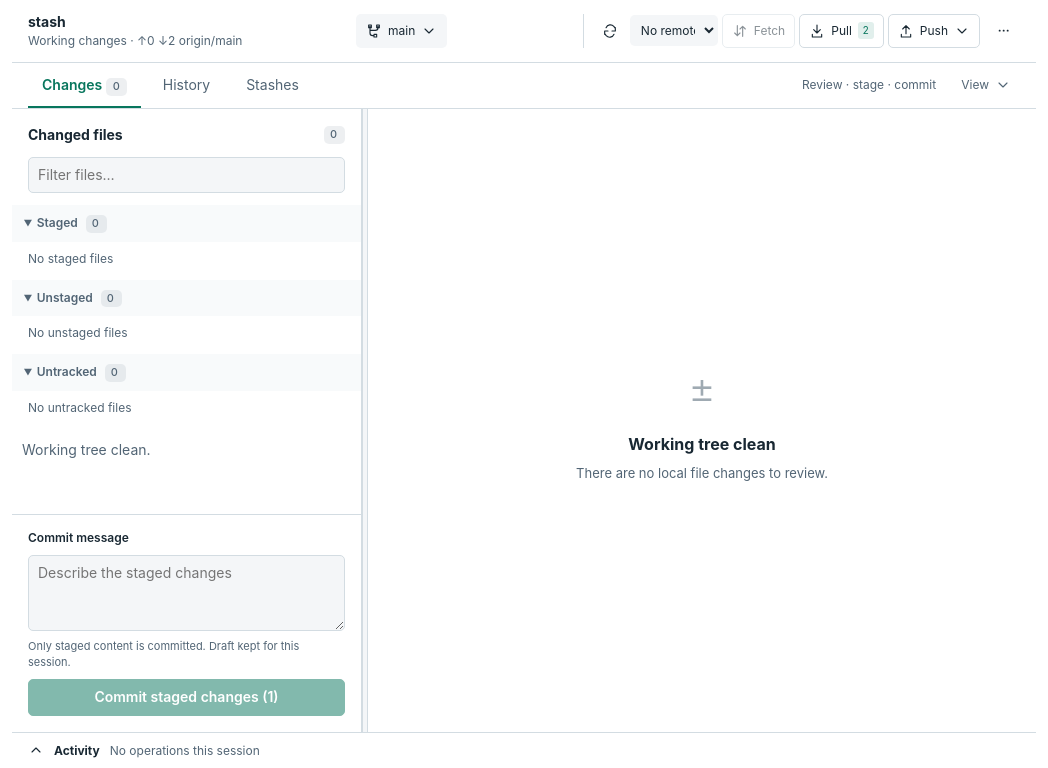
Test: stash workspace (mocked IPC) › defaults untracked inclusion off and retains the message after rejected creation while refreshing state
Expected: the button named "Refresh" is shown, [594,15,626,47]
Click the button "Stashes" at (272,85), box [232,63,313,107]
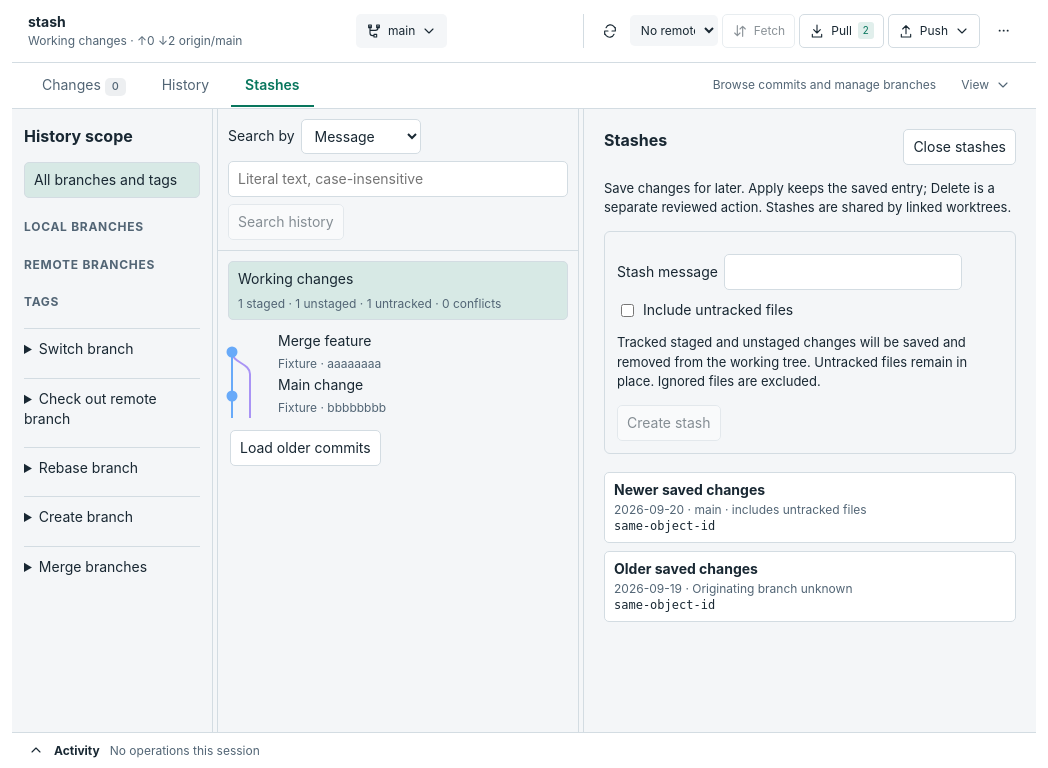
Expected: the checkbox labelled "Include untracked files" is not checked, [621,304,634,317]
Now the button "Newer saved changes" is shown, box [604,472,1016,543]
Now the element named "Create stash" shows "Untracked files remain in place", box [617,354,967,389]
Type "Keep create message" into the field labelled "Stash message" at (843,272), box [724,254,962,290]
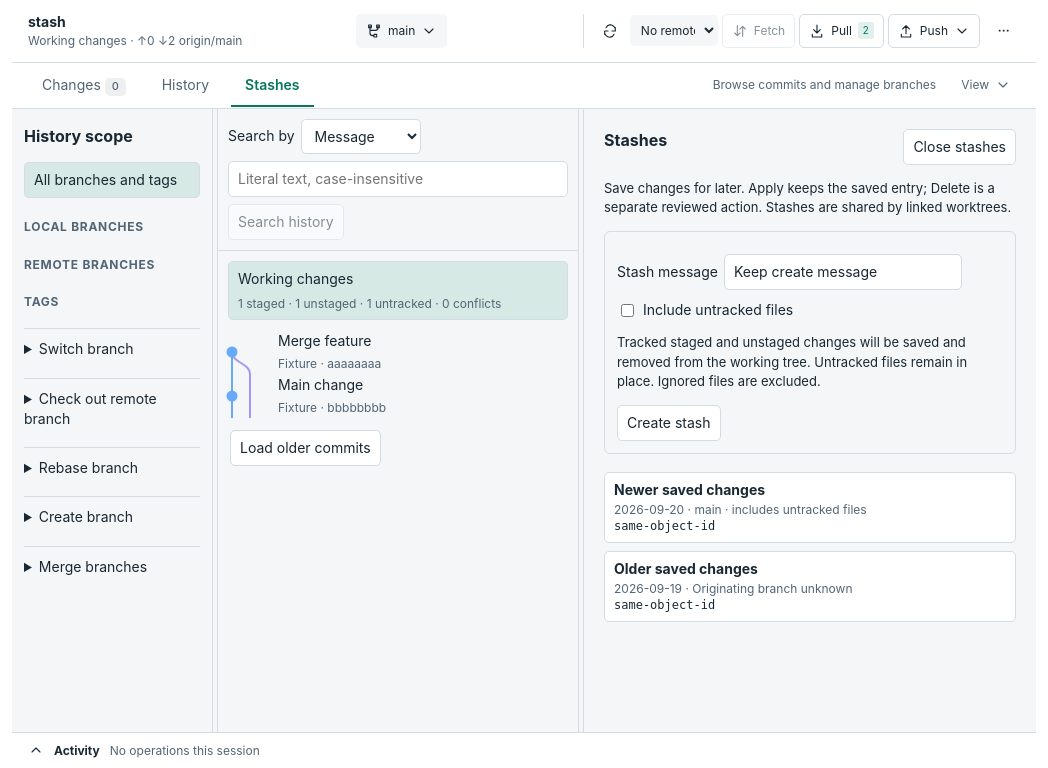
Click the button "Create stash" at (669,423), box [617,405,720,441]
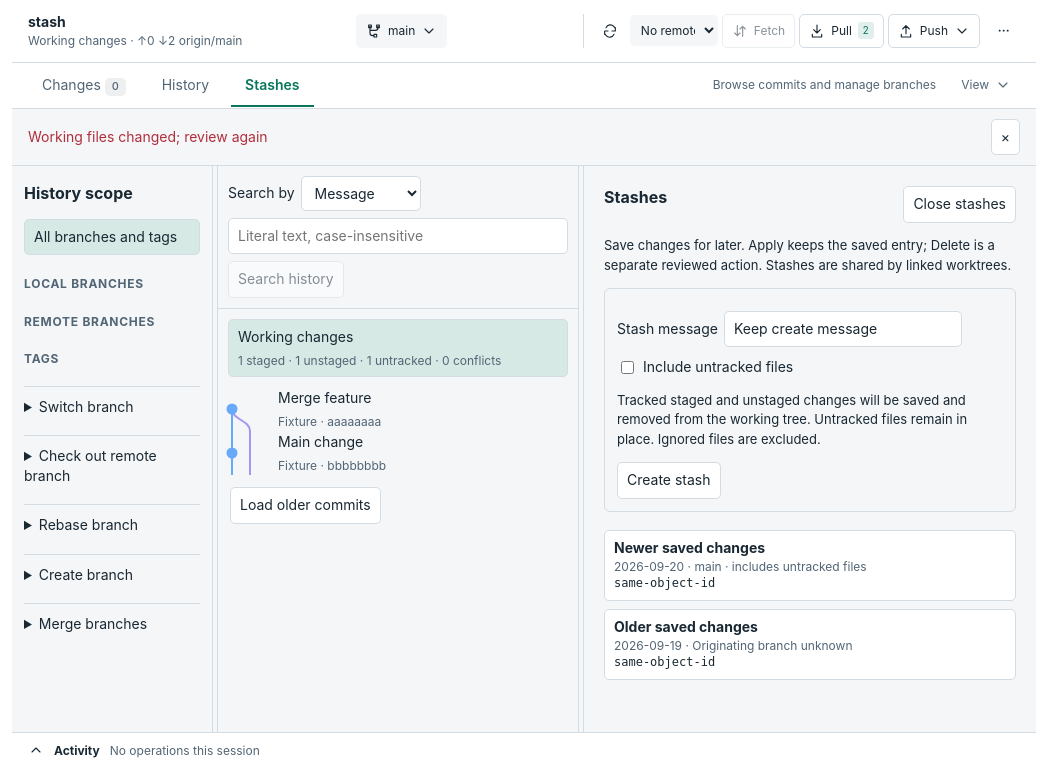
Now the text "Working files changed; review again" is shown, box [28,128,268,145]
